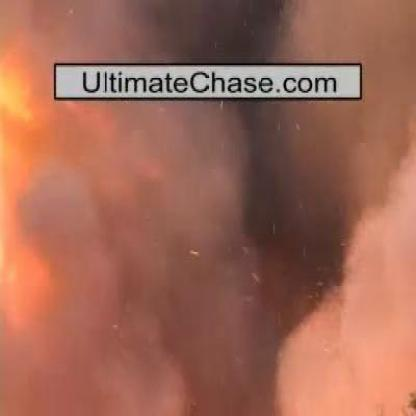-: (30, 105, 386, 381), (35, 4, 336, 64)
